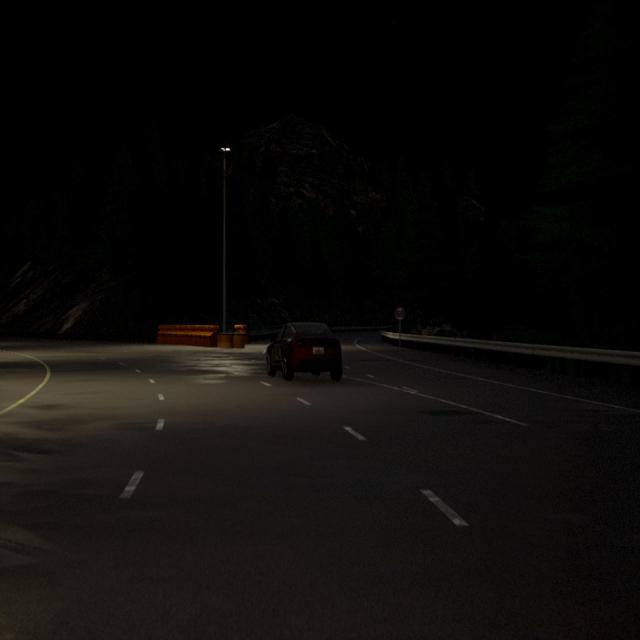Traffic_Signs: (395, 308, 405, 320)
Vehicle: (266, 322, 344, 381)
